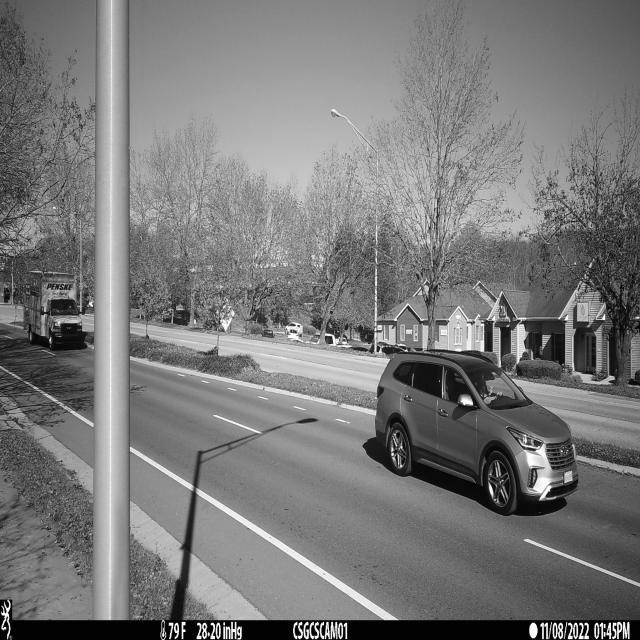Box Truck: (25, 270, 86, 350)
SUV: (375, 350, 579, 517)
